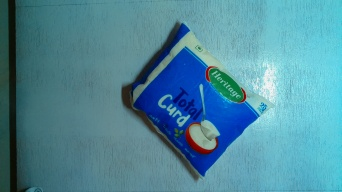m: (124, 19, 278, 181)
